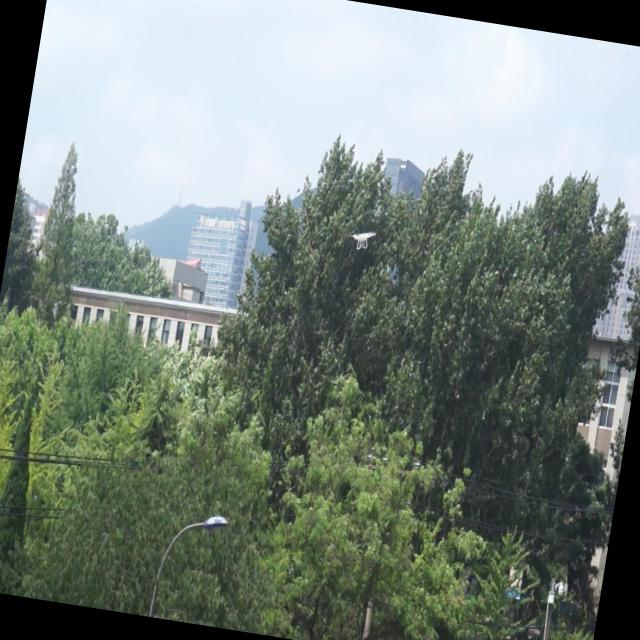drone: (344, 218, 380, 260)
